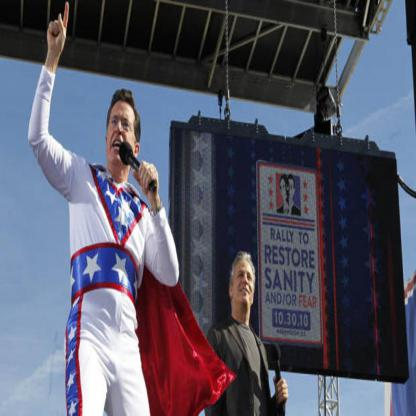face: (108, 104, 136, 164), (234, 264, 254, 307), (288, 181, 295, 199), (282, 183, 289, 199)
